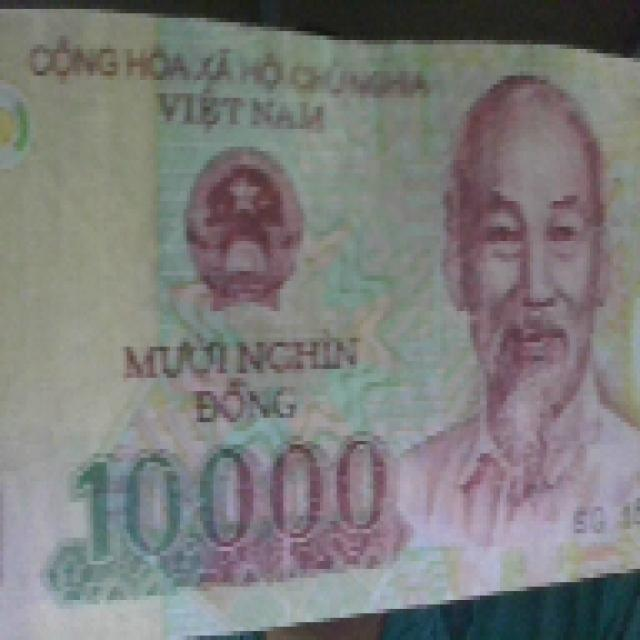10 000 VND: (0, 4, 637, 636)
